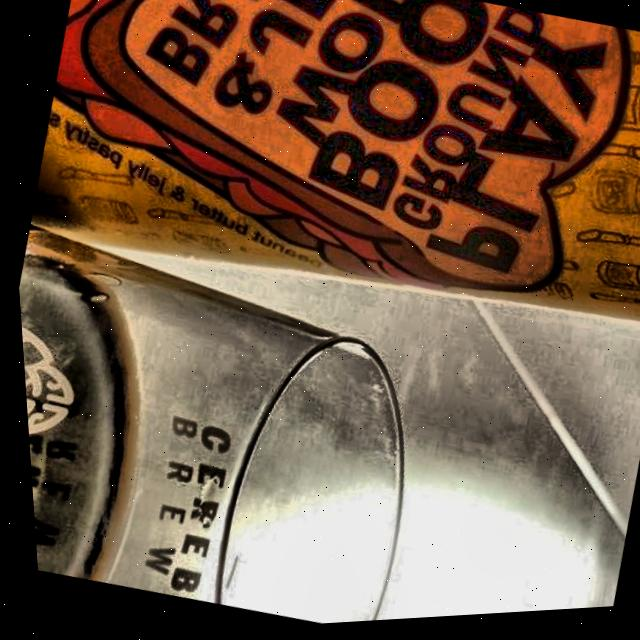glass: (15, 217, 397, 627)
